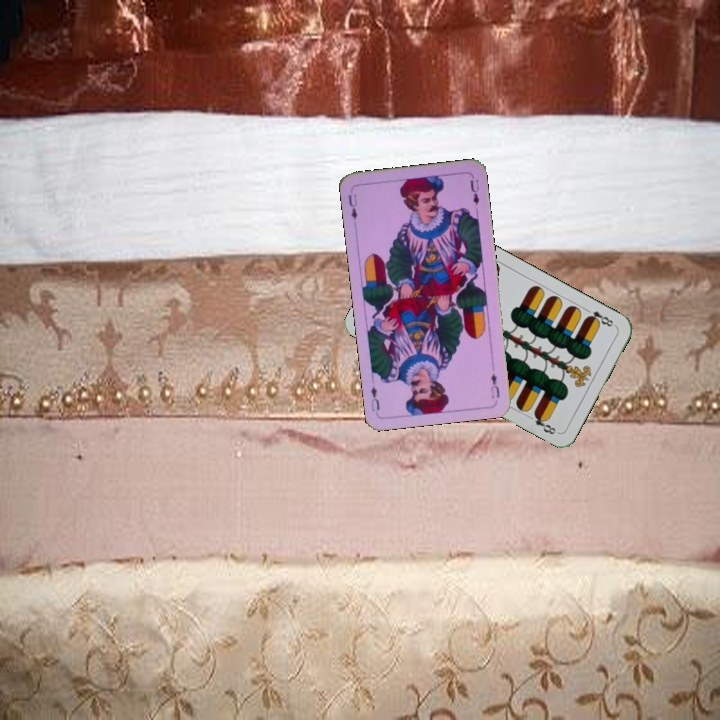E8: (581, 304, 618, 331)
EU: (344, 190, 360, 222), (487, 369, 502, 401)
